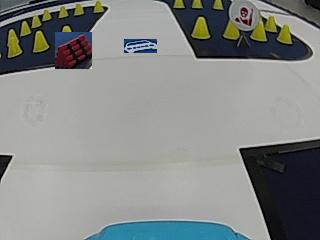evil: (229, 0, 259, 31)
